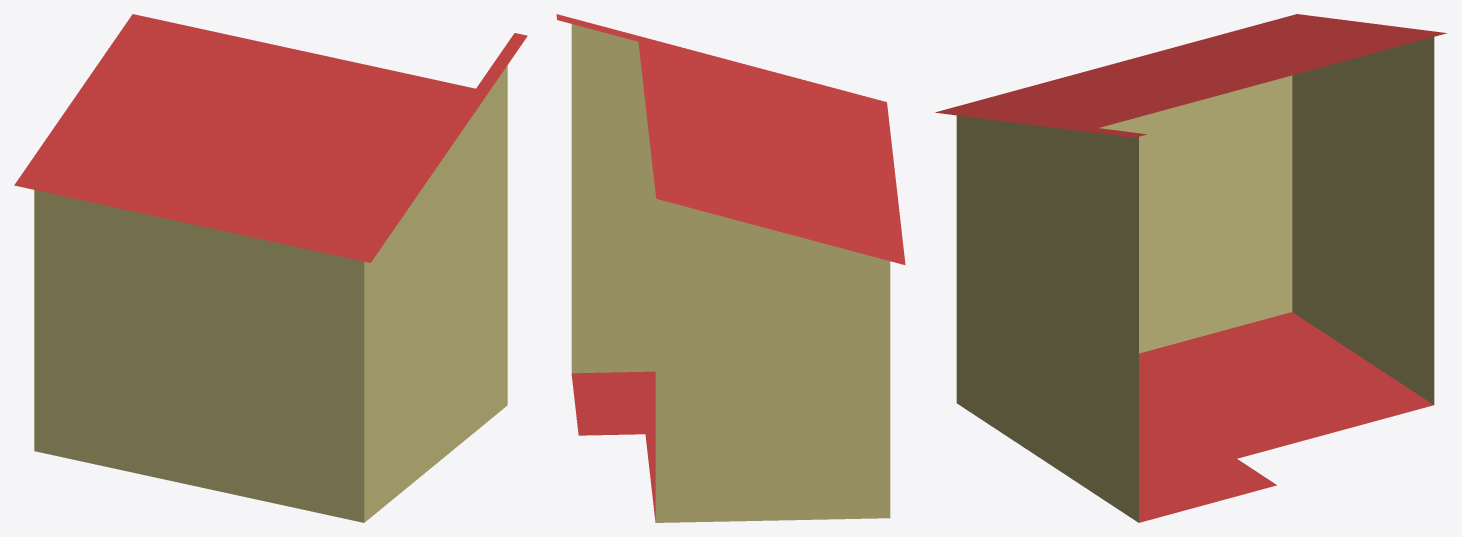
The picture shows the model from 3 angles, left to right: view 1: azimuth 30°, elevation 25°; view 2: azimuth 150°, elevation 25°; view 3: azimuth 270°, elevation 25°; orthographic projection. The views are drawn at different scales.
Size of the model in its own units: 8.48 by 8 by 6.78.
